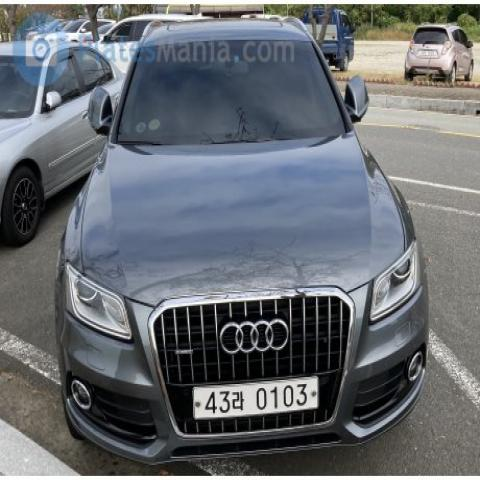LP: (184, 363, 329, 432)
